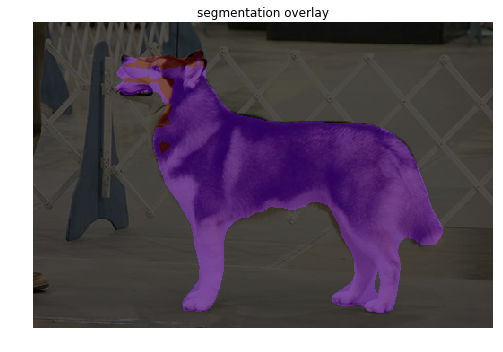unlabelled: (34, 26, 490, 327)
